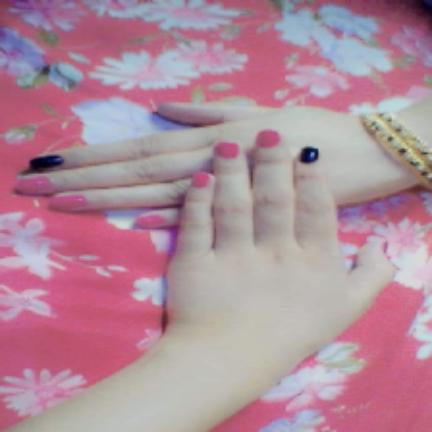Nail: (45, 195, 87, 212), (13, 179, 50, 197), (29, 154, 64, 171), (214, 141, 240, 160), (257, 129, 280, 148), (136, 215, 165, 229), (190, 171, 210, 189), (300, 146, 318, 165)
